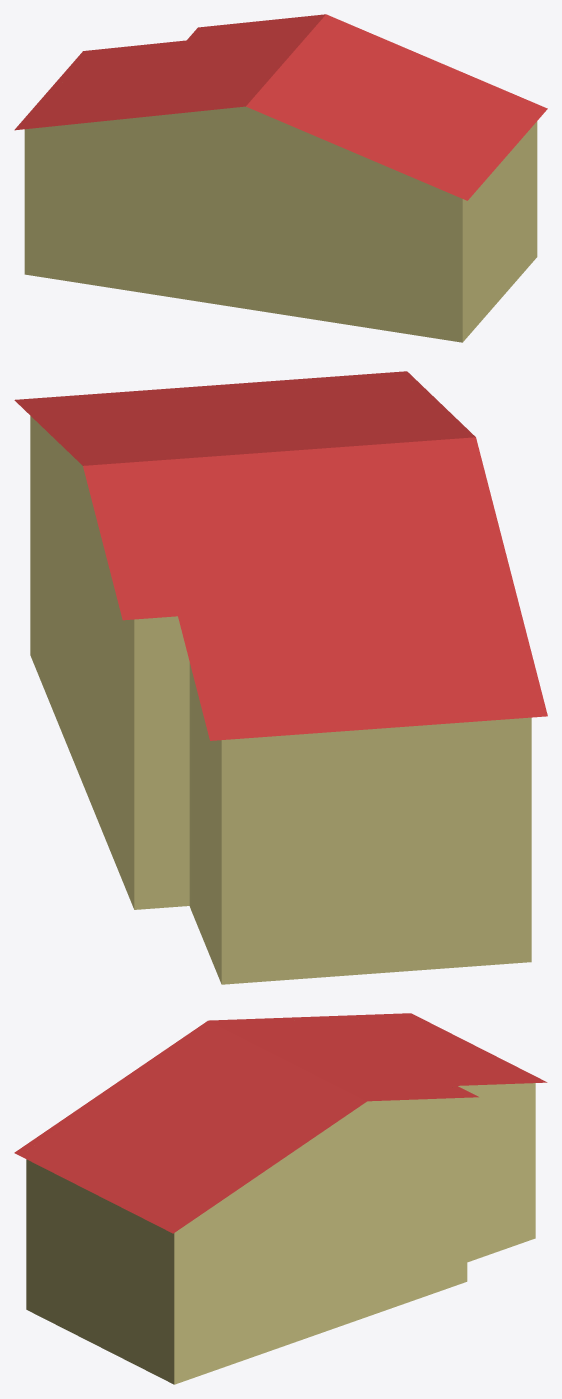
The picture shows the model from 3 angles, top to bottom: view 1: azimuth 30°, elevation 25°; view 2: azimuth 150°, elevation 25°; view 3: azimuth 270°, elevation 25°; orthographic projection. The views are drawn at different scales.
Size of the model in its own units: 29.41 by 30.09 by 13.7.
